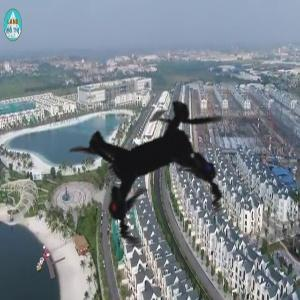drone: (19, 20, 300, 300)
